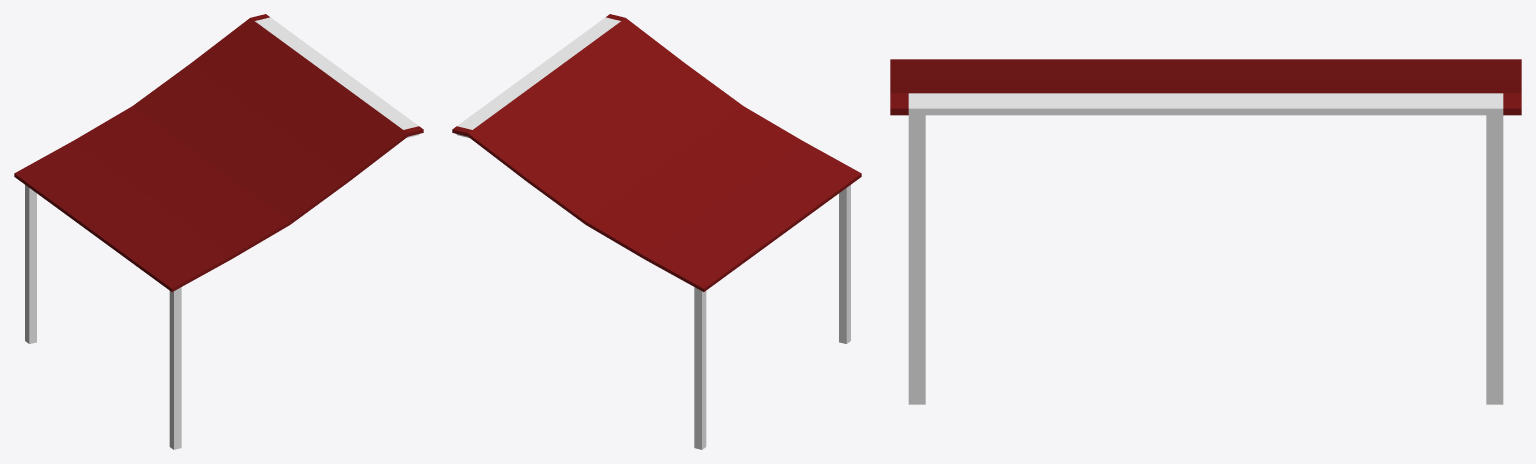
Rendered from O_V_F_All_Tonnel02.fbx.
The picture shows the model from 3 angles, left to right: view 1: azimuth 30°, elevation 25°; view 2: azimuth 150°, elevation 25°; view 3: azimuth 270°, elevation 25°; orthographic projection. The views are drawn at different scales.
Visible parts, largest first — view 1: Box024; view 2: Box024; view 3: Box024.
Boxes of the visible parts, <box> form: Box024: <box>14,14,423,449</box>; Box024: <box>452,14,861,449</box>; Box024: <box>890,59,1521,404</box>.
Size of the model in its own units: 2.66 by 2.67 by 2.89.
